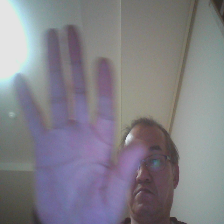hand: (12, 22, 148, 222)
